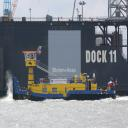tugboat: (13, 51, 118, 103)
